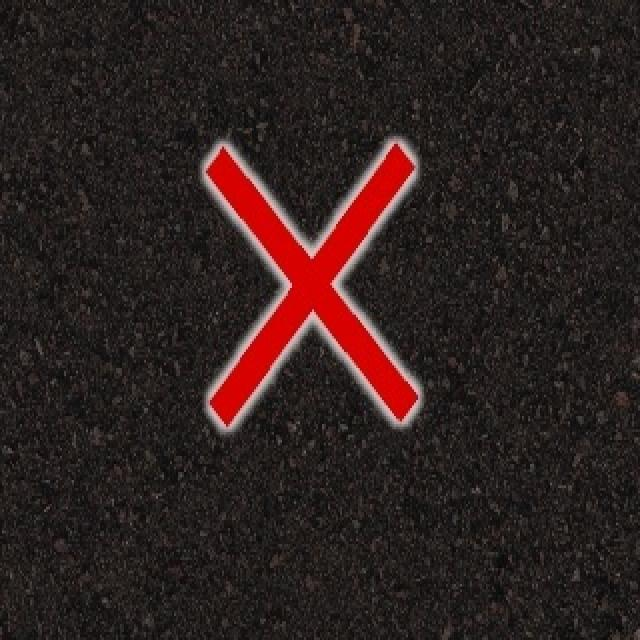x_marker: (205, 143, 417, 425)
